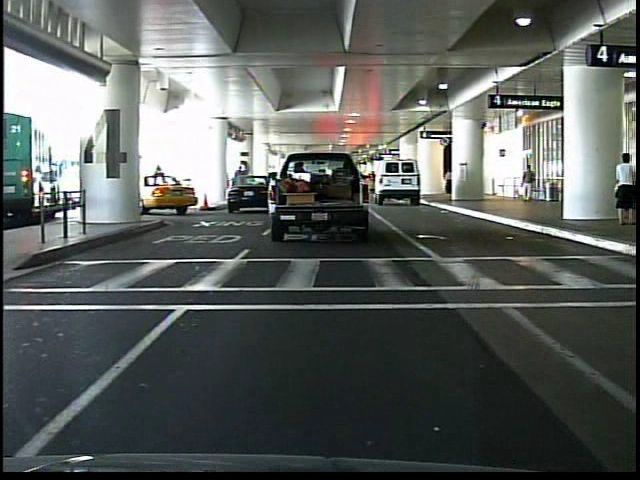person: (605, 149, 638, 231), (520, 159, 539, 207), (442, 166, 456, 199)
